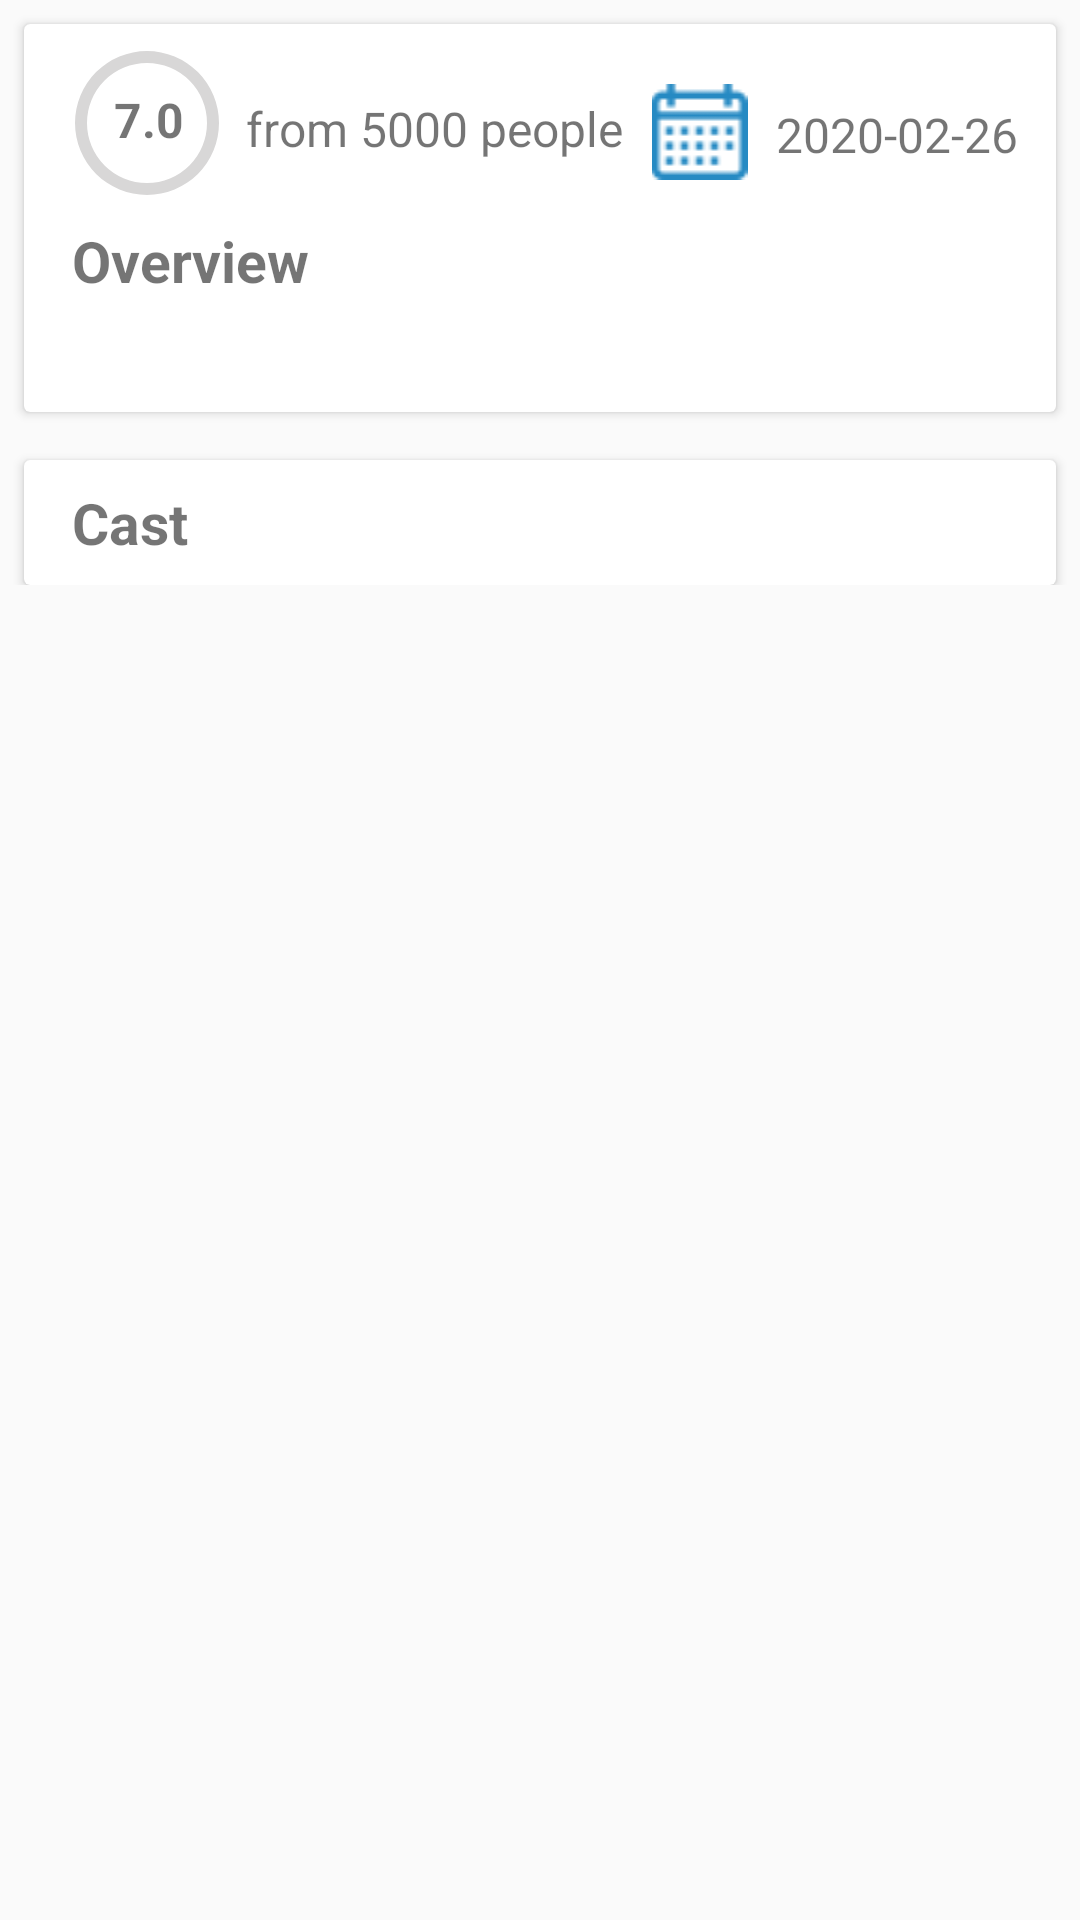

Named icons in this screenshot (1080x1920) and their centers, point (x, y):
date: point (700, 132)
